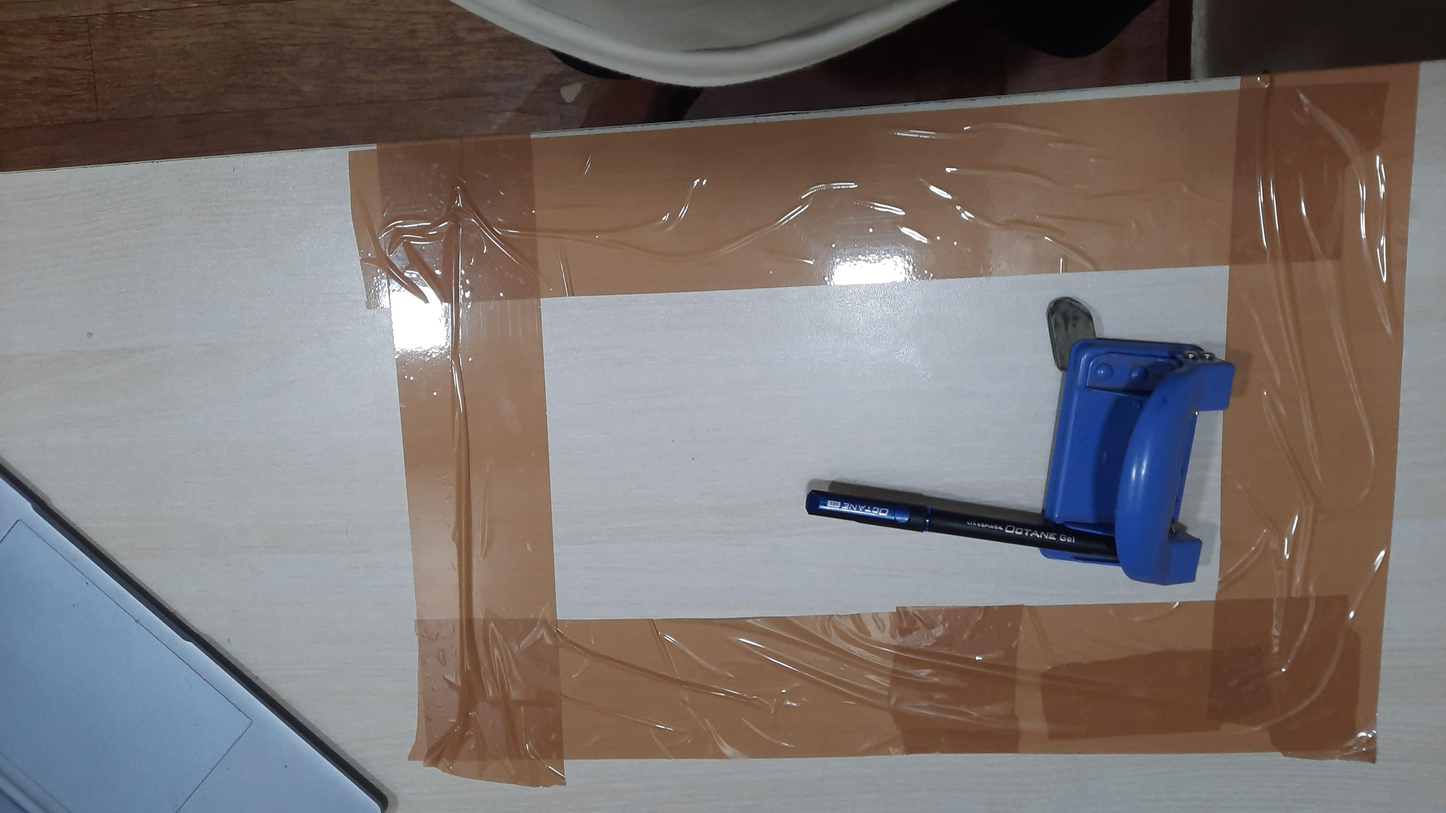Pen: (805, 488, 1122, 562)
Punch: (1040, 296, 1236, 586)
